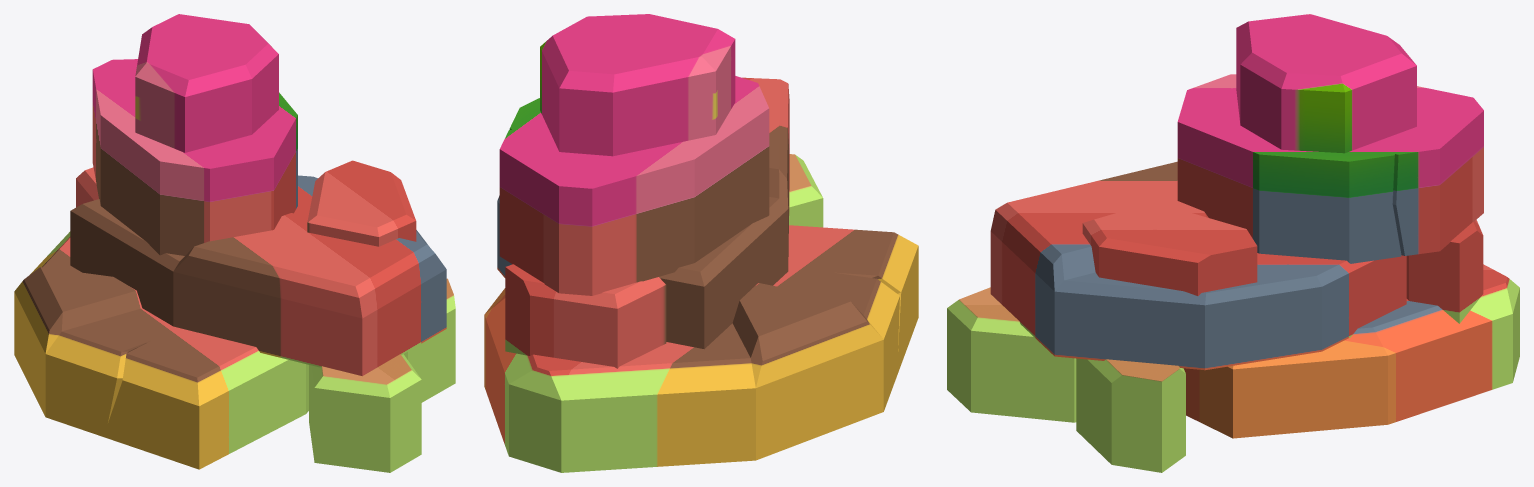
File: rock_1.fbx
The picture shows the model from 3 angles, left to right: view 1: azimuth 30°, elevation 25°; view 2: azimuth 150°, elevation 25°; view 3: azimuth 270°, elevation 25°; orthographic projection. The views are drawn at different scales.
Parts seen in each view (by area): view 1: rock_1; view 2: rock_1; view 3: rock_1.
Boxes of the visible parts, x1=… form: rock_1: x1=14, y1=14, x2=455, y2=472; rock_1: x1=484, y1=14, x2=918, y2=472; rock_1: x1=947, y1=14, x2=1519, y2=472.
Size of the model in its own units: 192 by 155 by 240.
